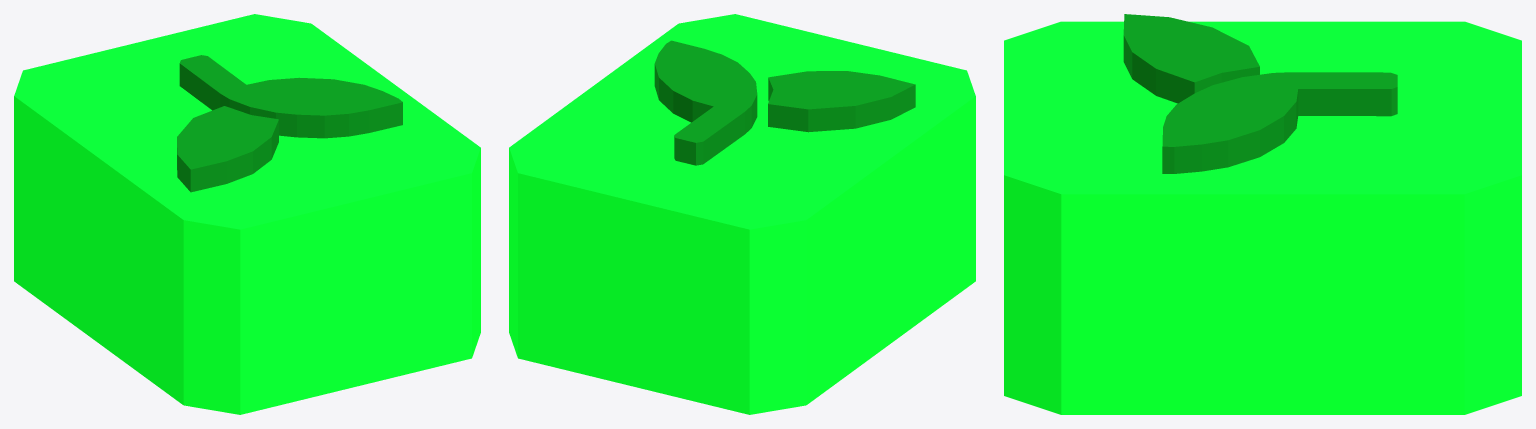
File: Plant.glb
3 renders of one model, left to right at view 1: azimuth 30°, elevation 25°; view 2: azimuth 150°, elevation 25°; view 3: azimuth 270°, elevation 25°, orthographic. The views are drawn at different scales.
Parts seen in each view (by area): view 1: Cube, Plane; view 2: Cube, Plane; view 3: Cube, Plane.
Part boxes in pixels (x1=…): Cube: x1=14, y1=14, x2=480, y2=414; Plane: x1=177, y1=55, x2=402, y2=192; Cube: x1=509, y1=14, x2=975, y2=414; Plane: x1=654, y1=40, x2=915, y2=165; Cube: x1=1004, y1=21, x2=1521, y2=414; Plane: x1=1123, y1=14, x2=1397, y2=173.
Size of the model in its own units: 0.2749 by 0.1839 by 0.3482.
